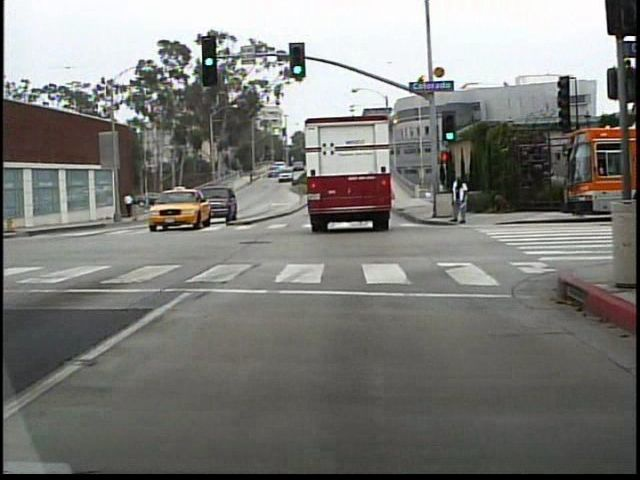person: (446, 175, 471, 228), (122, 188, 139, 220)
